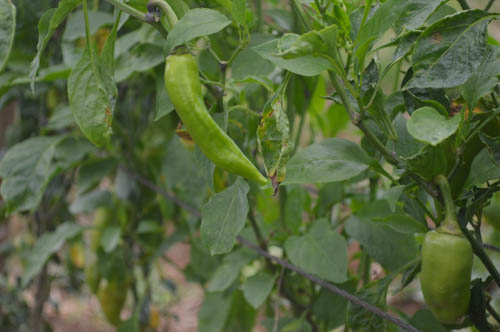ChiliPepper: (165, 57, 269, 190), (420, 232, 474, 326)
